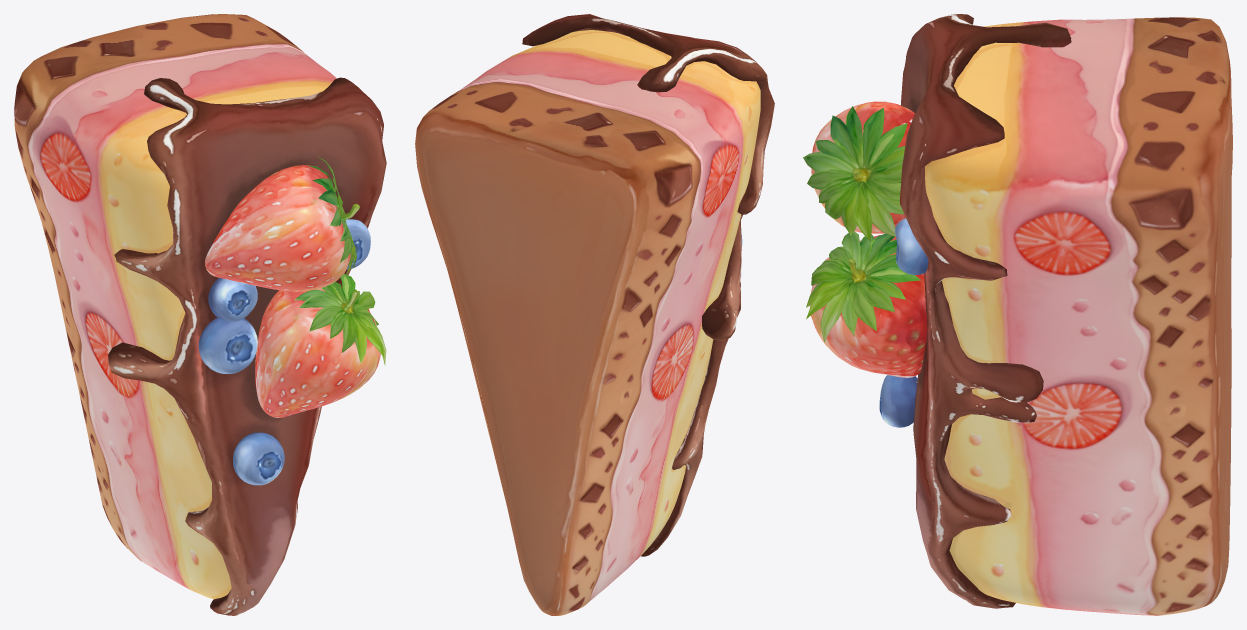
File: cake.glb
The picture shows the model from 3 angles, left to right: view 1: azimuth 30°, elevation 25°; view 2: azimuth 150°, elevation 25°; view 3: azimuth 270°, elevation 25°; orthographic projection. The views are drawn at different scales.
Visible parts, largest first — view 1: cake001, frosting001, berries001, strawberry001, leaves003, leaves004, blueberry001; view 2: cake001, frosting001; view 3: cake001, frosting001, leaves004, leaves003, strawberry001, berries001, blueberry001.
Boxes of the visible parts, x1,y1,x2,y2 form: cake001: (14, 14, 336, 599); frosting001: (108, 77, 386, 615); berries001: (198, 165, 350, 485); strawberry001: (255, 286, 380, 417); leaves003: (294, 274, 386, 365); leaves004: (307, 156, 359, 276); blueberry001: (345, 219, 370, 269); cake001: (415, 30, 760, 615); frosting001: (522, 14, 774, 556); cake001: (925, 17, 1232, 615); frosting001: (900, 14, 1071, 608); leaves004: (803, 106, 907, 241); leaves003: (806, 231, 920, 342); strawberry001: (809, 235, 927, 377); berries001: (811, 101, 917, 427); blueberry001: (895, 218, 928, 274).
Size of the model in its own units: 0.3507 by 0.6462 by 0.4421.
1 material, 1 textured.
